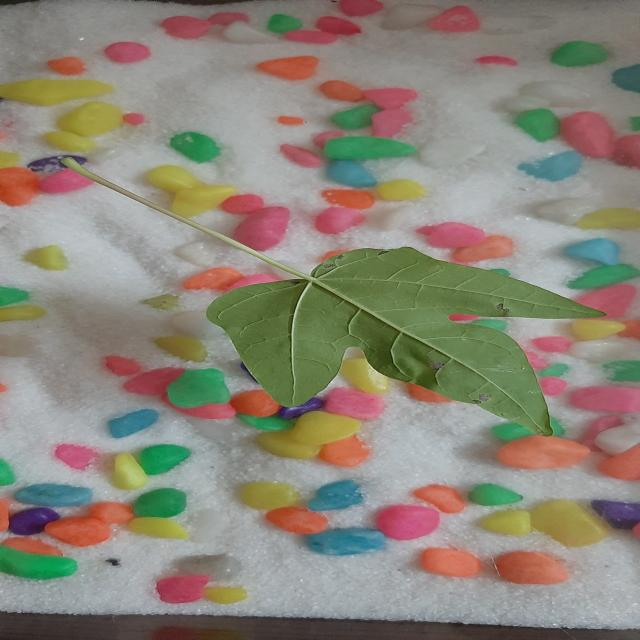papaya: (206, 248, 602, 436)
